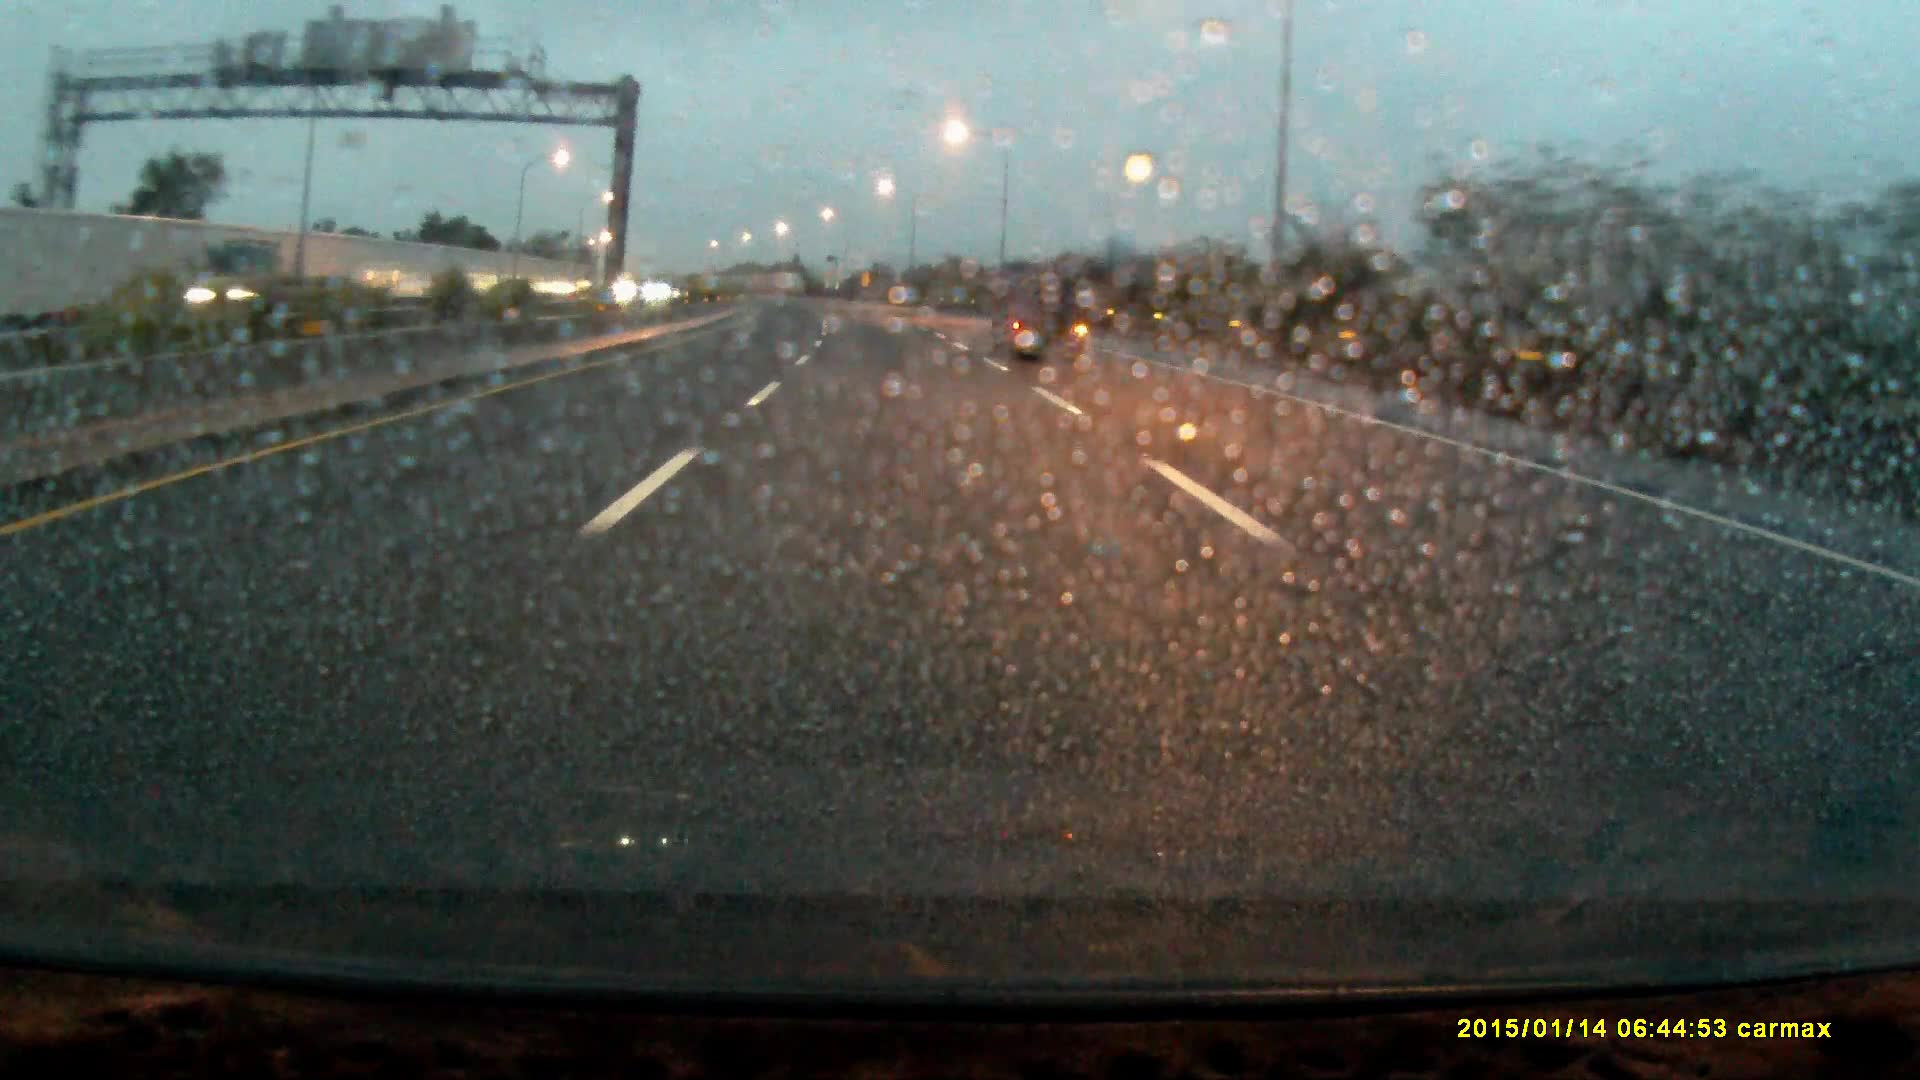vehicle: (179, 237, 342, 324), (1000, 276, 1087, 367)
